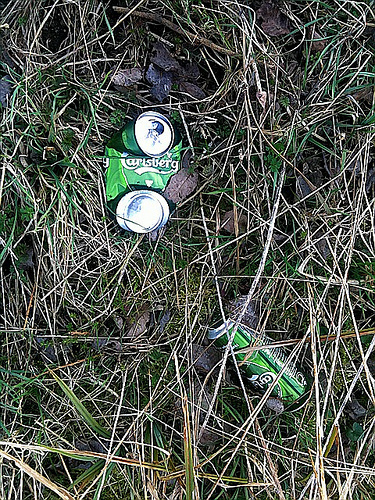litter: (210, 310, 311, 414), (105, 110, 187, 235)
